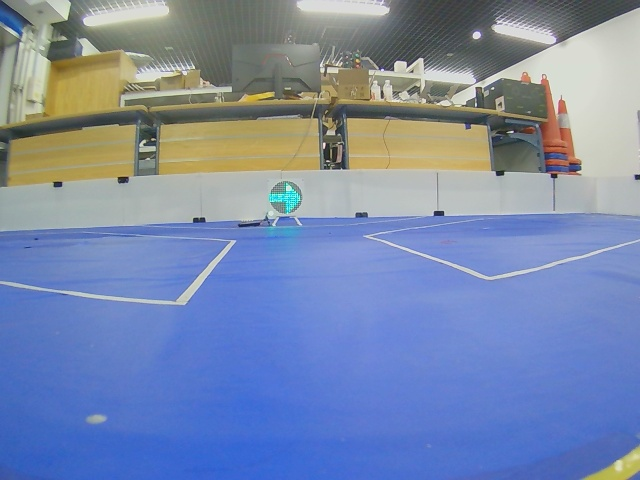right_green: (269, 181, 302, 215)
